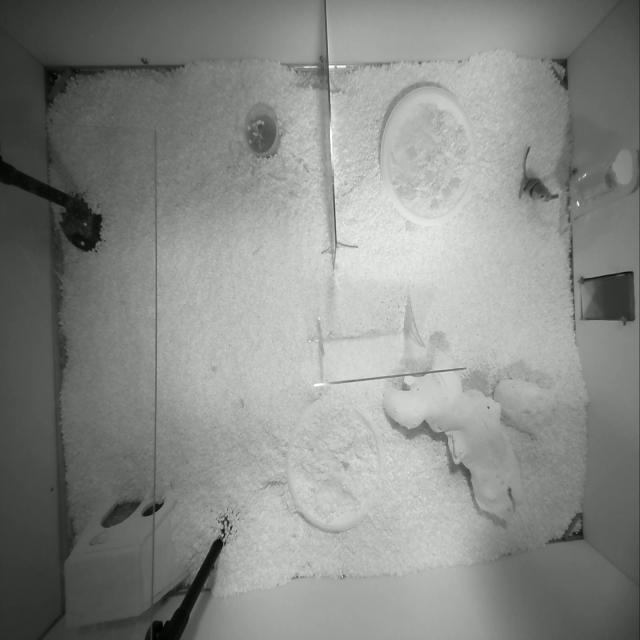pup_h_stripe: (519, 147, 553, 202)
